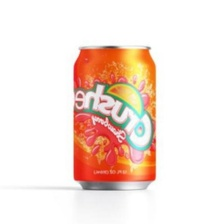can: (61, 41, 162, 197)
